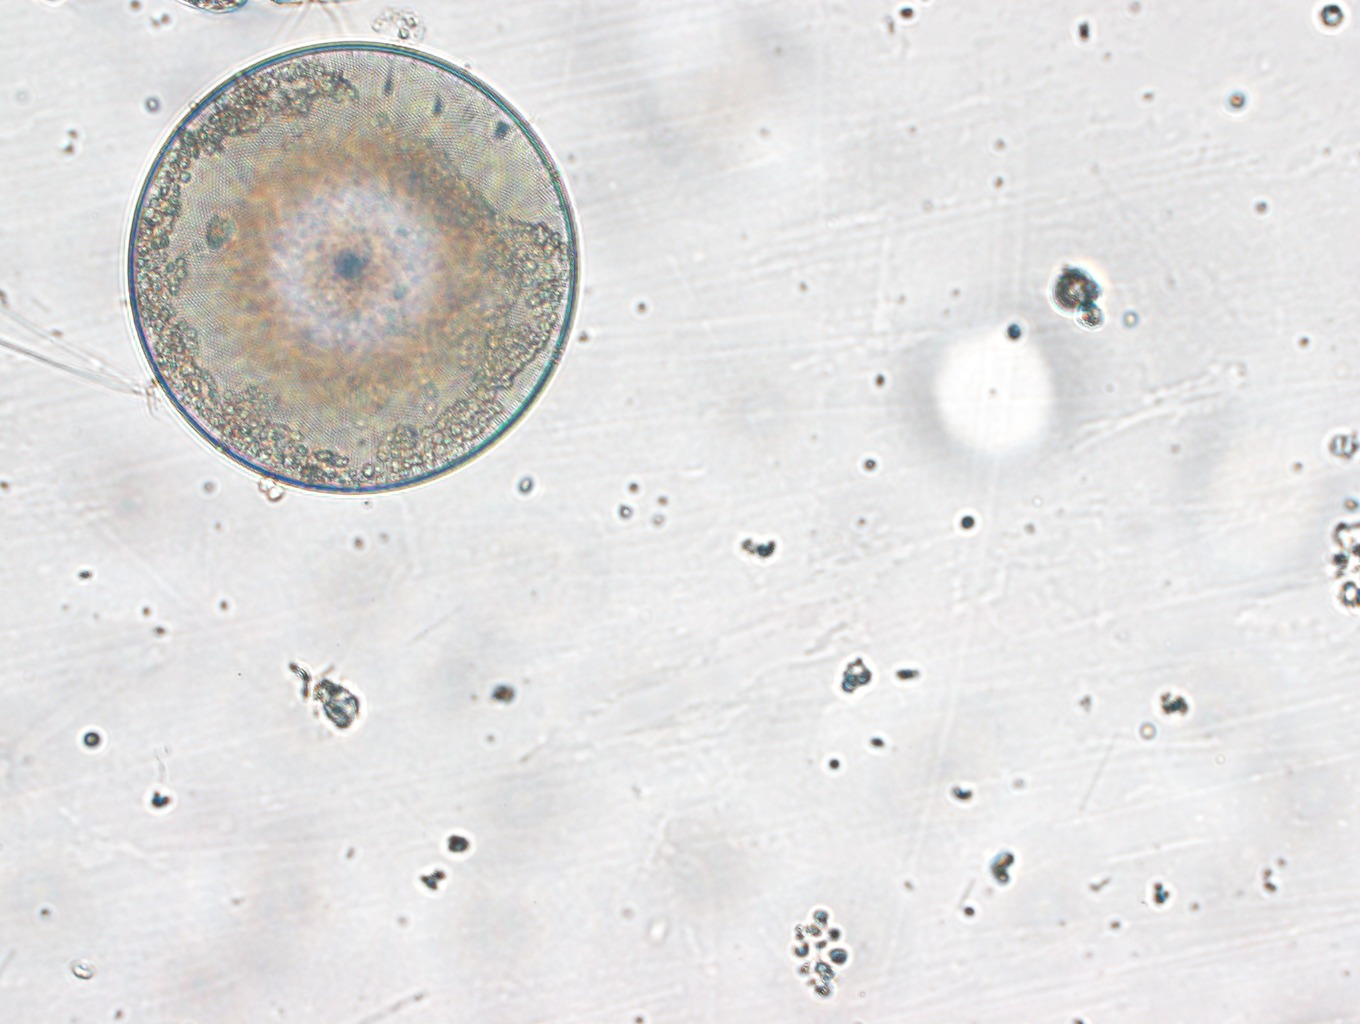coscinodiscus: (118, 35, 595, 501)
